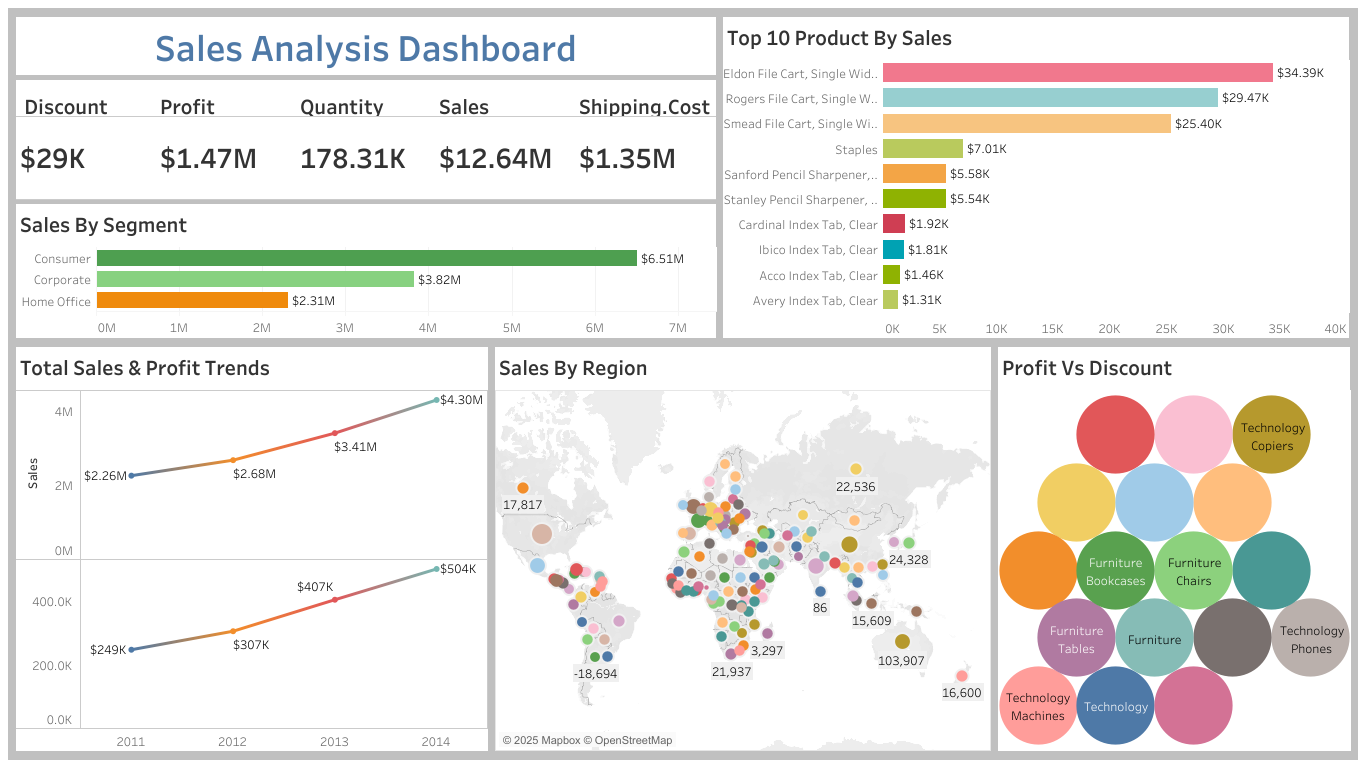

What the dashboard file says about the page in this screenshot:
{"tool":"tableau","page":{"name":"Dashboard 2","canvas":[1366,768],"ordinal":0},"visuals":[{"type":"text","box":[16,17,700,58]},{"type":"worksheet","title":"Top 10 Products by Sales","mark":"Automatic","rows":["Product.Name"],"cols":["Sales"],"box":[723,17,626,321]},{"type":"worksheet","title":"KPI","mark":"Automatic","box":[16,80,700,120]},{"type":"worksheet","title":"Sales by Segment","mark":"Automatic","rows":["Segment"],"cols":["Sales"],"box":[16,204,700,134]},{"type":"worksheet","title":"Total Sales & Profit Trend","mark":"Automatic","rows":["Sales","Profit"],"cols":["Order.Date"],"box":[16,347,472,404]},{"type":"worksheet","title":"Sales by Region","mark":"Automatic","box":[495,347,496,404]},{"type":"worksheet","title":"Profit vs Discount Analysis","mark":"Circle","box":[998,347,352,404]}]}

Visuals, with their boxes in screenshot pixels (x1, y1, x2, y2), scaled from the page's 1366x768 canvas onto the 1365x767 screenshot:
text: (x1=16, y1=17, x2=715, y2=75)
"Top 10 Products by Sales" worksheet: (x1=722, y1=17, x2=1348, y2=338)
"KPI" worksheet: (x1=16, y1=80, x2=715, y2=200)
"Sales by Segment" worksheet: (x1=16, y1=204, x2=715, y2=338)
"Total Sales & Profit Trend" worksheet: (x1=16, y1=347, x2=488, y2=750)
"Sales by Region" worksheet: (x1=495, y1=347, x2=990, y2=750)
"Profit vs Discount Analysis" worksheet (Circle marks): (x1=997, y1=347, x2=1349, y2=750)
